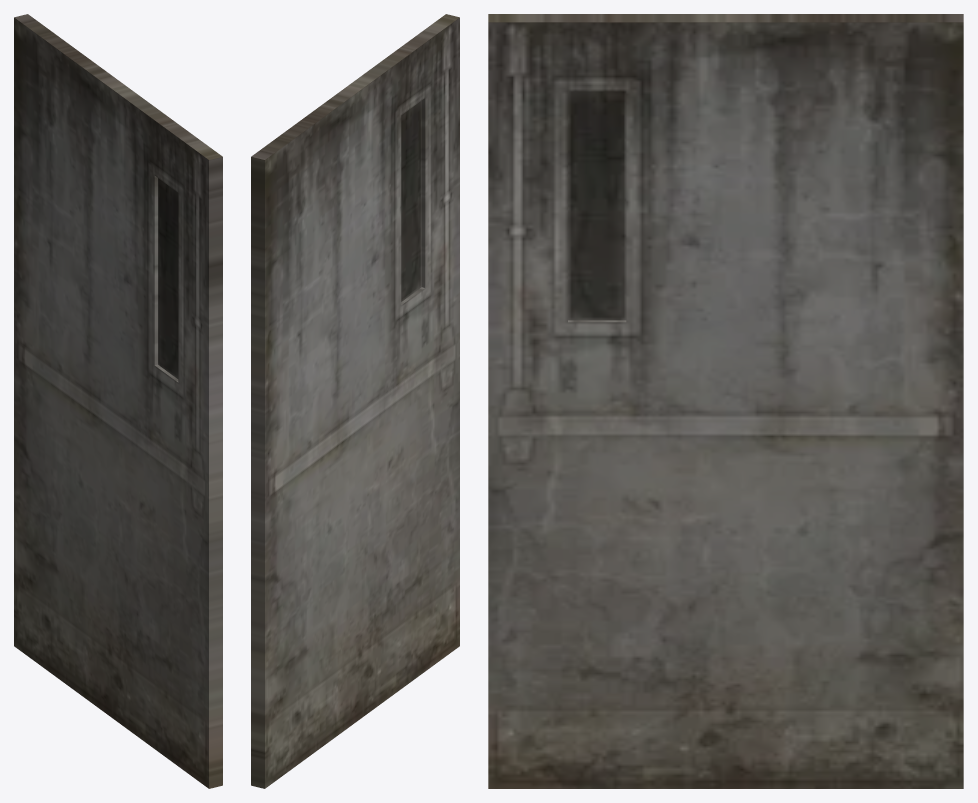
Rendered from industrial_doors_a_b_static.glb.
3 views of the same model, side by side, from view 1: azimuth 30°, elevation 25°; view 2: azimuth 150°, elevation 25°; view 3: azimuth 270°, elevation 25° (orthographic). The views are drawn at different scales.
Parts seen in each view (by area): view 1: industrial_doors_a_b_static; view 2: industrial_doors_a_b_static; view 3: industrial_doors_a_b_static.
Part boxes in pixels (left/top/right/bottom): industrial_doors_a_b_static: left=14, top=14, right=222, bottom=788; industrial_doors_a_b_static: left=251, top=14, right=459, bottom=788; industrial_doors_a_b_static: left=488, top=14, right=963, bottom=788.
Size of the model in its own units: 0.0492 by 2.14 by 1.2.
Materials: 1 (1 with a texture image).
